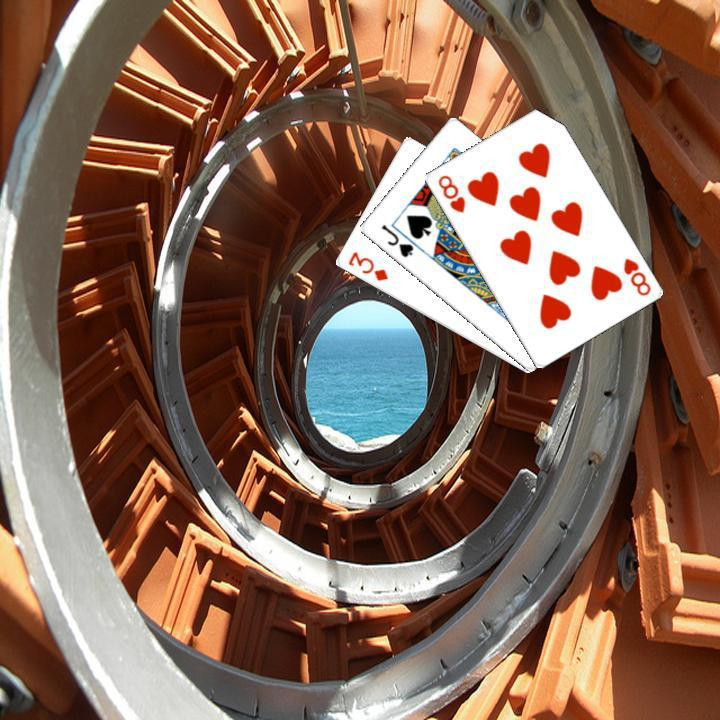3: (343, 247, 390, 283)
8: (433, 170, 467, 215), (618, 254, 652, 298)
J: (376, 220, 415, 260)
